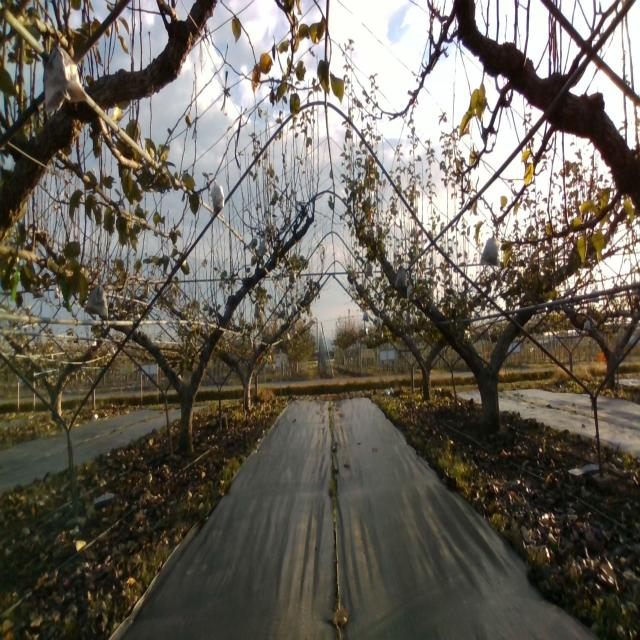pearbags: (44, 40, 88, 114), (480, 232, 501, 267), (210, 178, 226, 214), (395, 265, 408, 289), (257, 236, 269, 257)
